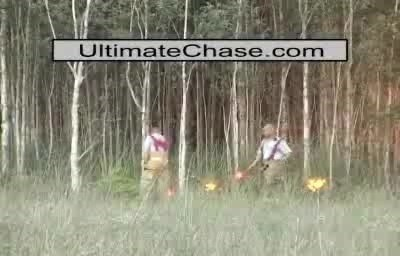fire: (301, 172, 332, 193), (200, 174, 223, 193)
